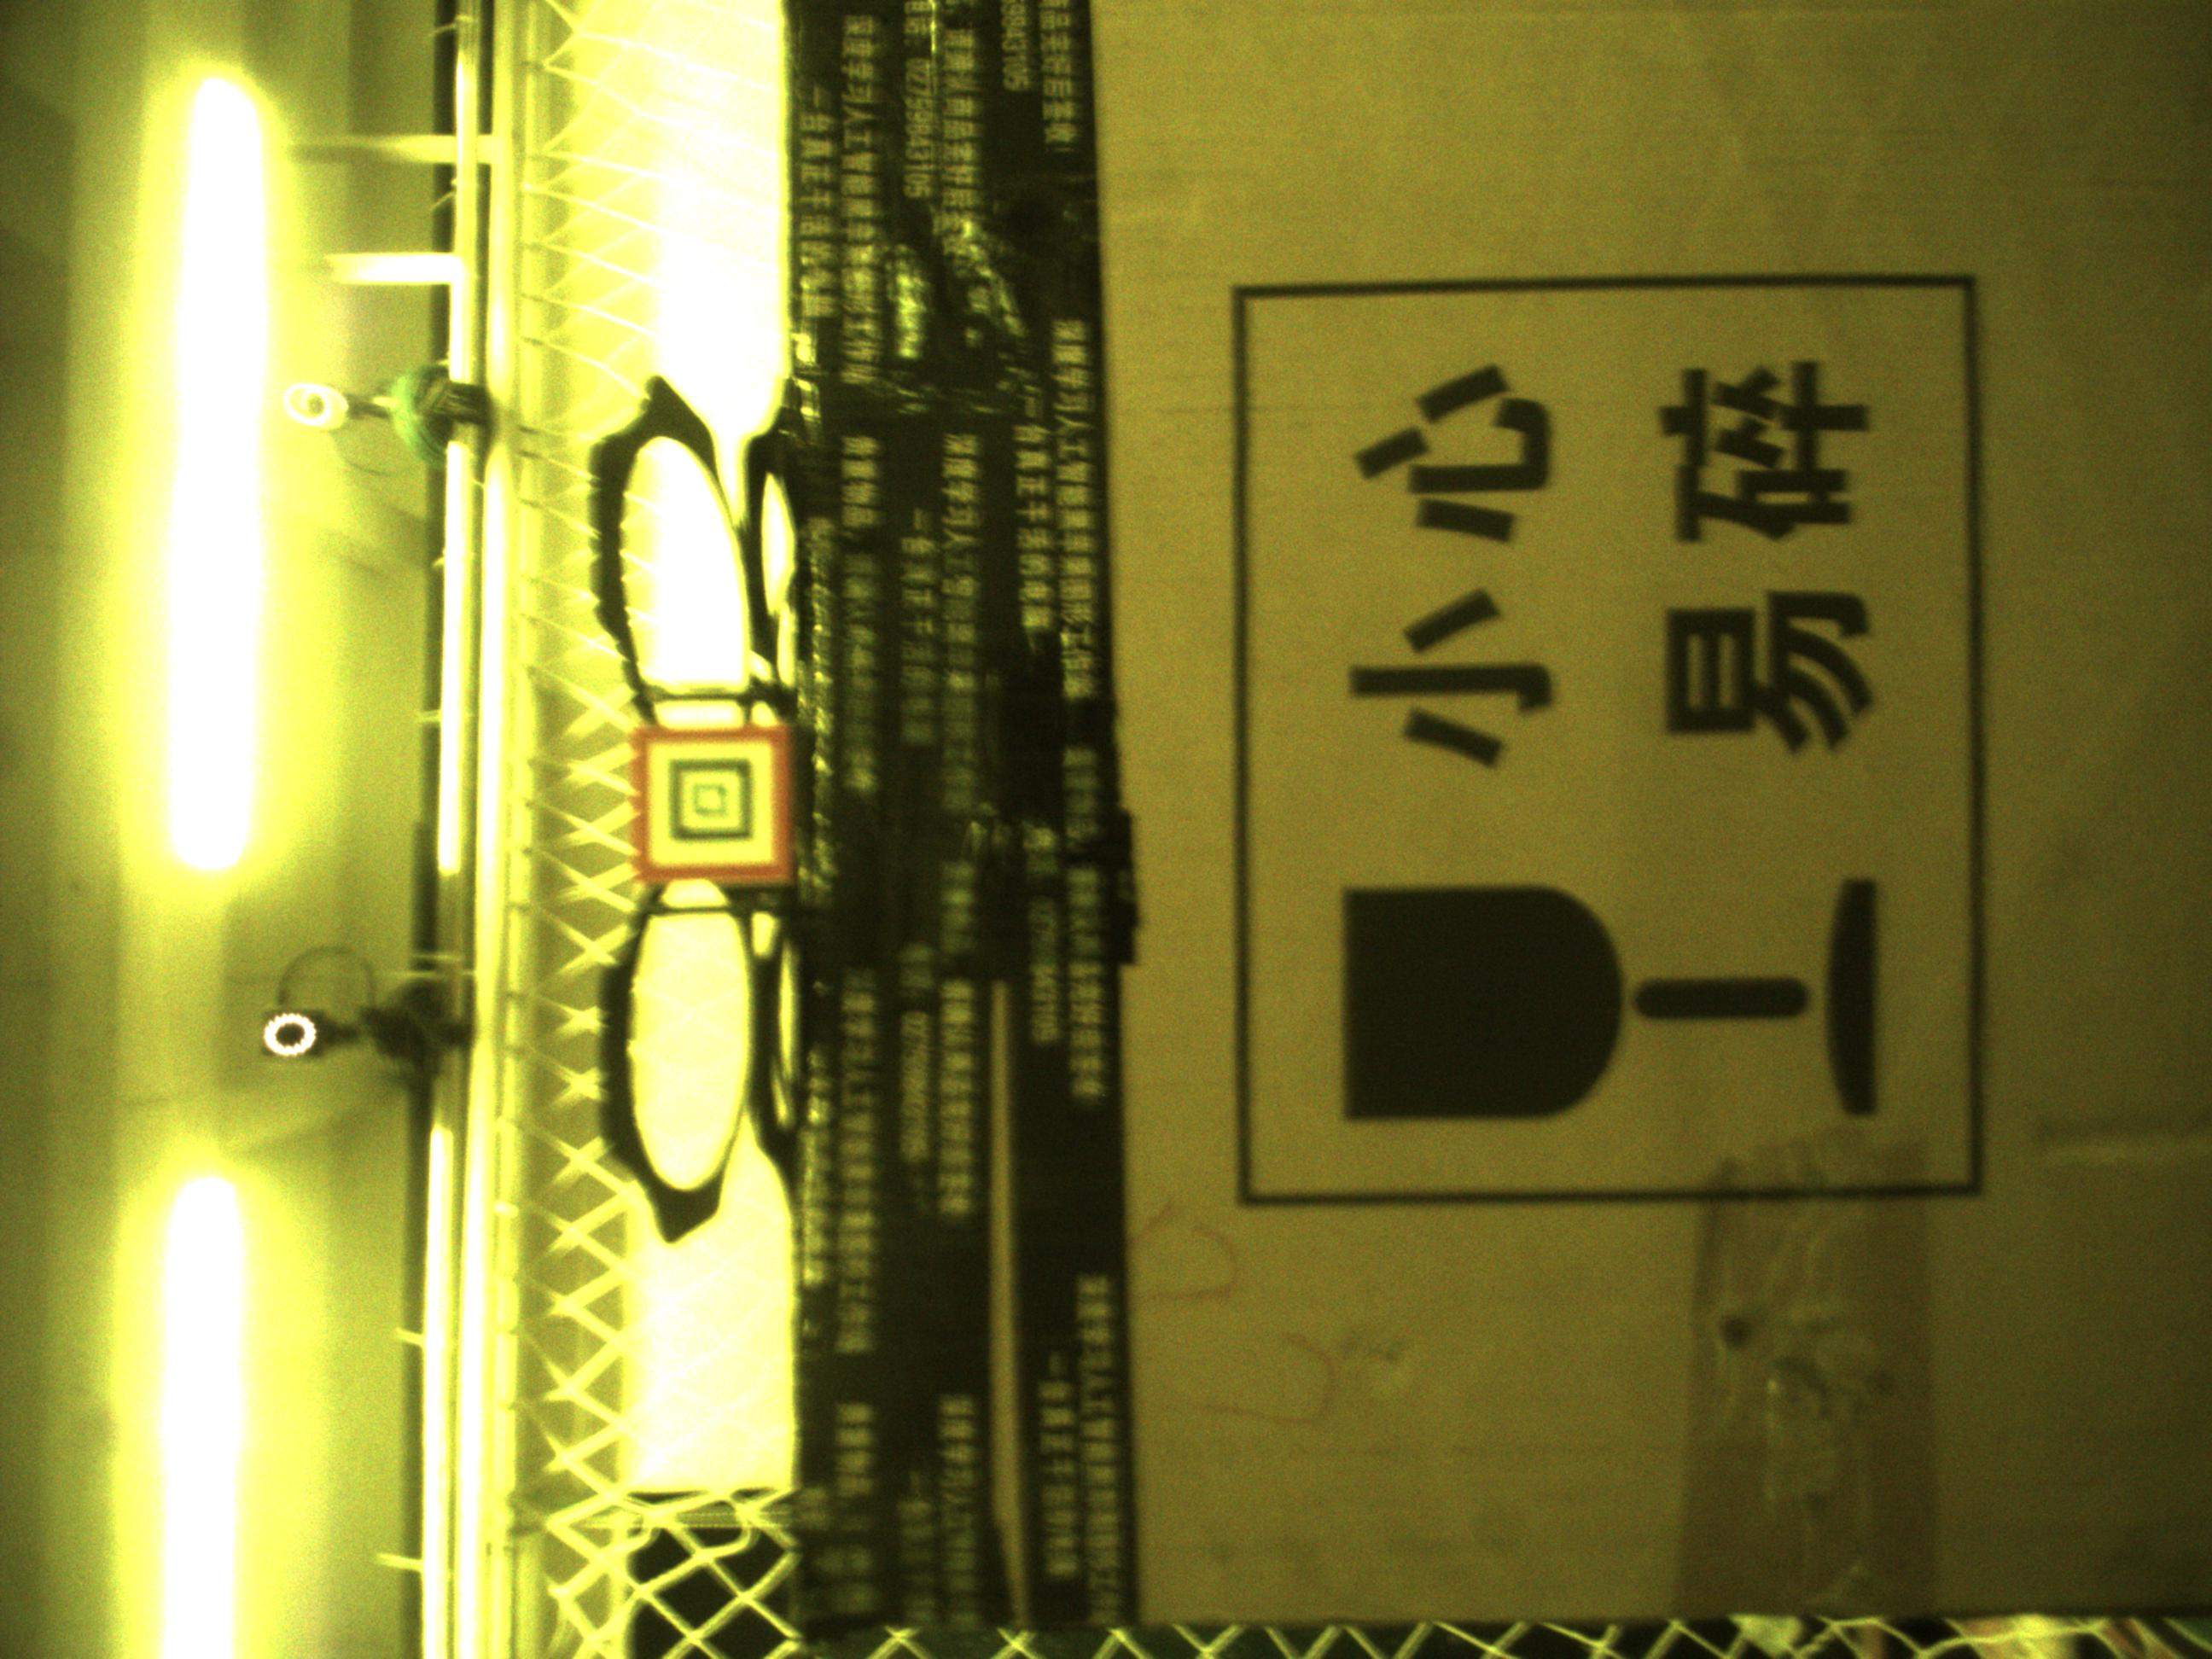outline: (632, 728, 792, 885)
